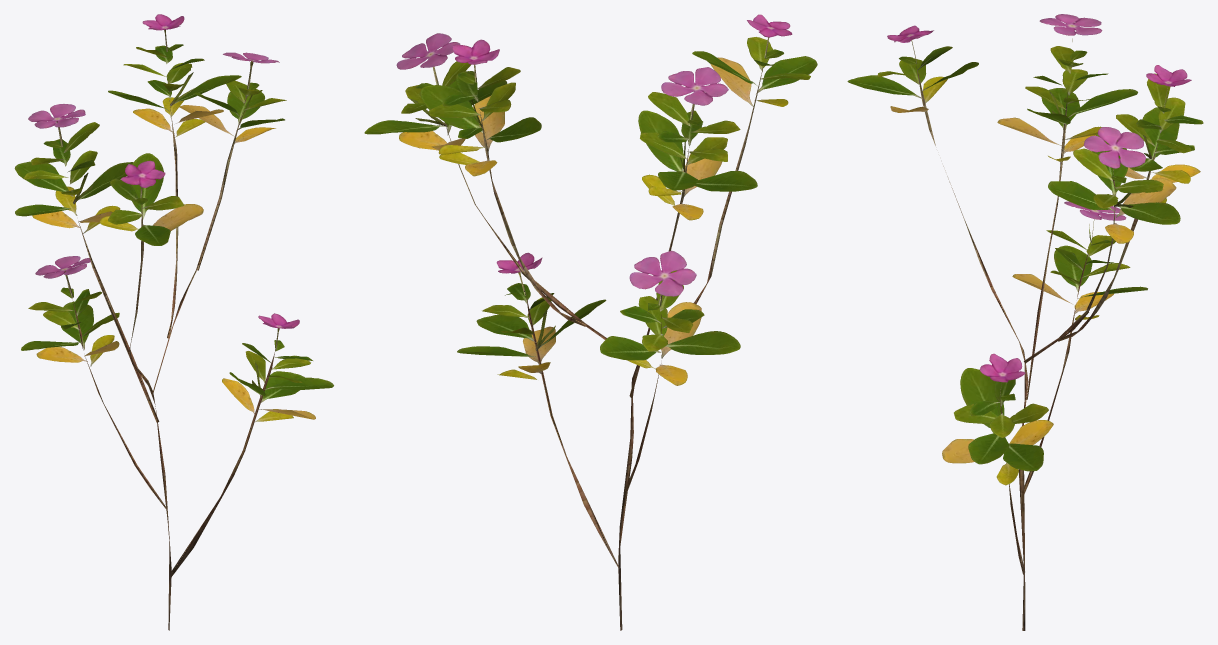
The model's file is ph-periwinkle-plant.lod1.glb.
3 views of the same model, side by side, from view 1: azimuth 30°, elevation 25°; view 2: azimuth 150°, elevation 25°; view 3: azimuth 270°, elevation 25° (orthographic). The views are drawn at different scales.
Visible parts, largest first — view 1: periwinkle_plant_02_LOD0; view 2: periwinkle_plant_02_LOD0; view 3: periwinkle_plant_02_LOD0.
Boxes of the visible parts, x1=… form: periwinkle_plant_02_LOD0: x1=14, y1=14, x2=333, y2=630; periwinkle_plant_02_LOD0: x1=364, y1=14, x2=817, y2=630; periwinkle_plant_02_LOD0: x1=847, y1=14, x2=1203, y2=630.
Size of the model in its own units: 0.2312 by 0.4107 by 0.2248.
1 material, 1 textured.
